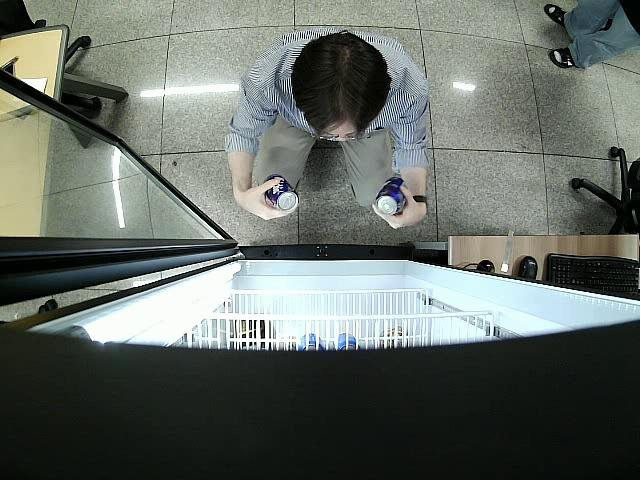00_hand: (236, 178, 298, 225), (372, 188, 425, 232)
14_welchsGrape: (373, 171, 408, 217), (268, 174, 299, 215)
